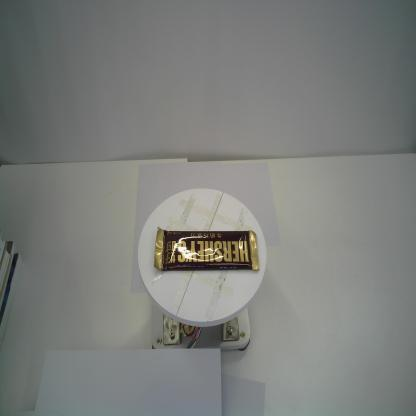Chocolate: (153, 225, 262, 275)
